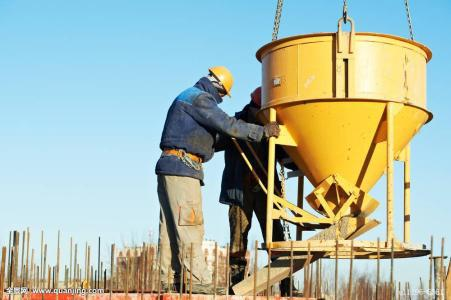helmet: (198, 64, 238, 101), (246, 87, 269, 117)
